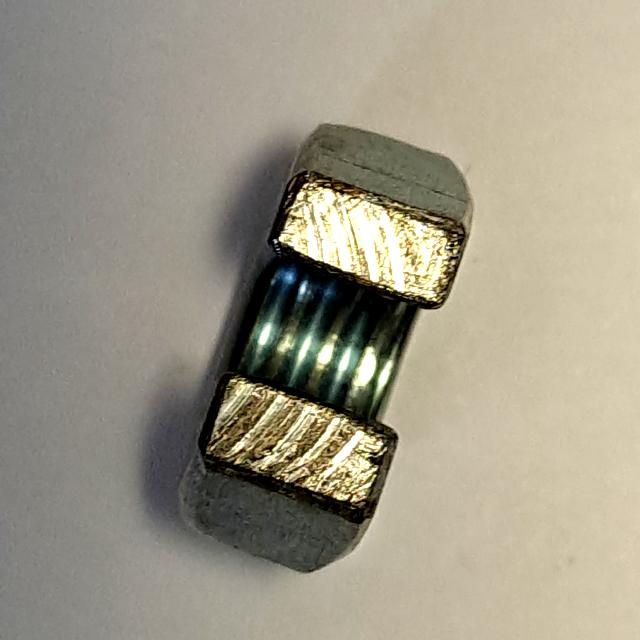Side-Fracture: (167, 111, 490, 582)
